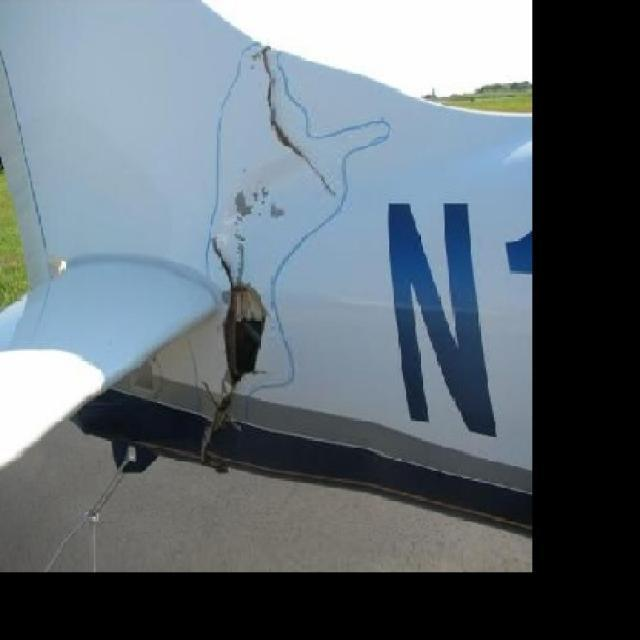crack: (250, 90, 329, 215)
